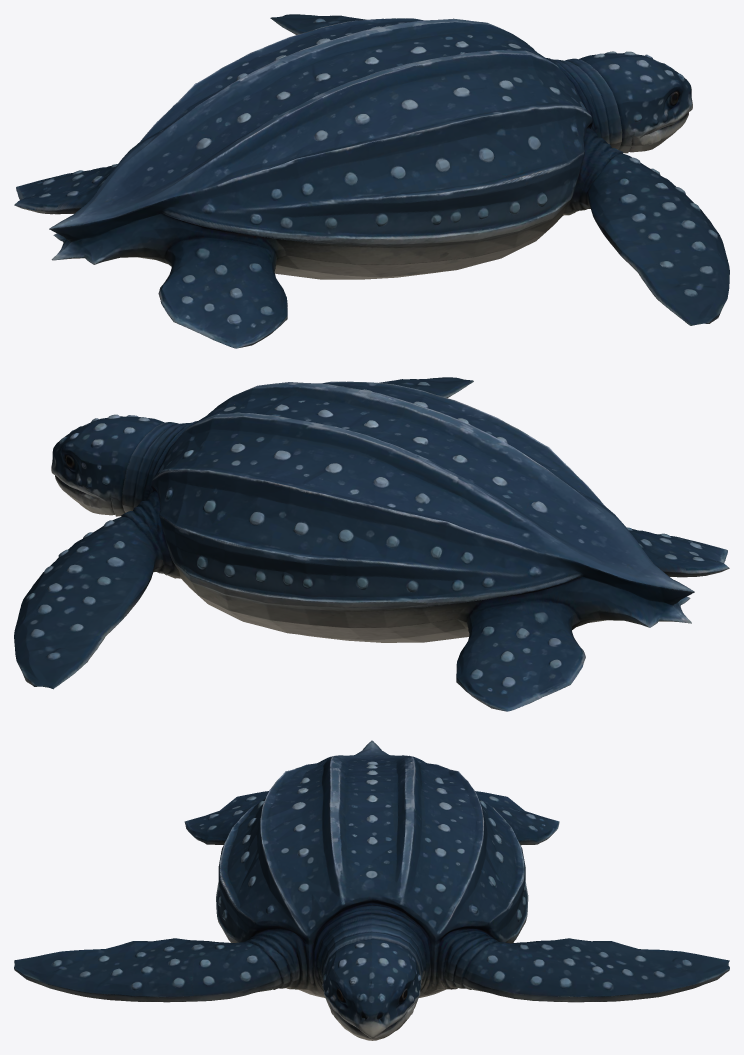
The model's file is Tortuga-Baula.glb.
3 renders of one model, top to bottom at view 1: azimuth 30°, elevation 25°; view 2: azimuth 150°, elevation 25°; view 3: azimuth 270°, elevation 25°, orthographic. The views are drawn at different scales.
Visible parts, largest first — view 1: tripo_node_b1b28f9f-812f-4a17-b536-db5692b3e47b; view 2: tripo_node_b1b28f9f-812f-4a17-b536-db5692b3e47b; view 3: tripo_node_b1b28f9f-812f-4a17-b536-db5692b3e47b.
Boxes of the visible parts, left/top/right/bottom form: tripo_node_b1b28f9f-812f-4a17-b536-db5692b3e47b: left=14, top=14, right=729, bottom=348; tripo_node_b1b28f9f-812f-4a17-b536-db5692b3e47b: left=14, top=377, right=729, bottom=711; tripo_node_b1b28f9f-812f-4a17-b536-db5692b3e47b: left=14, top=740, right=729, bottom=1040.
Bounding box in the file's own units: 0.8782 × 0.2611 × 0.9986.
Materials: 1 (1 with a texture image).
